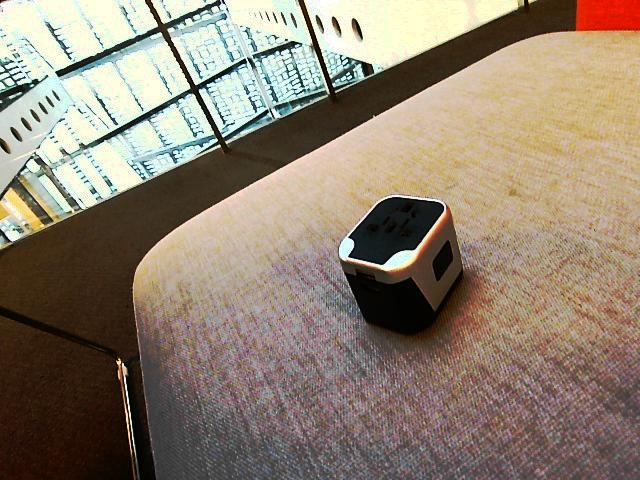adapter: (337, 193, 463, 335)
